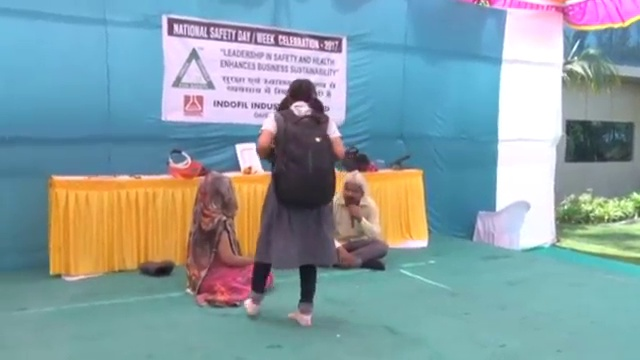helmet_off: (194, 173, 240, 218), (284, 79, 320, 108), (341, 171, 366, 207)
person: (243, 78, 346, 330), (183, 173, 274, 308), (324, 170, 390, 273)
